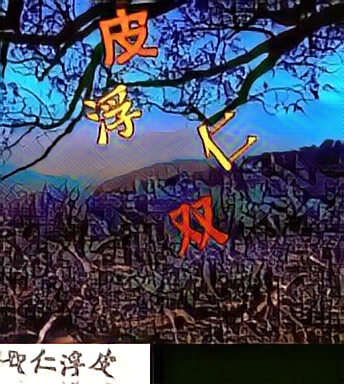B8A1: (79, 81, 139, 145)
C6A4: (98, 4, 158, 68)
C8CA: (195, 110, 255, 174)
CBAB: (169, 197, 229, 261)
